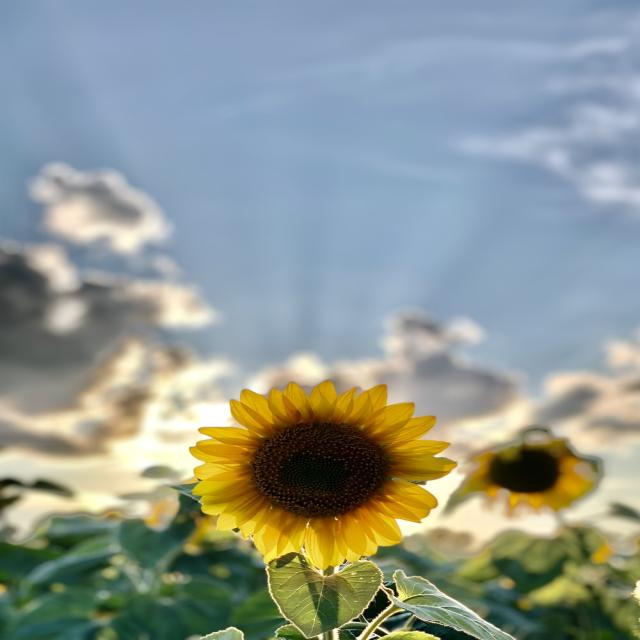sunflower: (186, 374, 467, 575), (453, 426, 608, 520)
